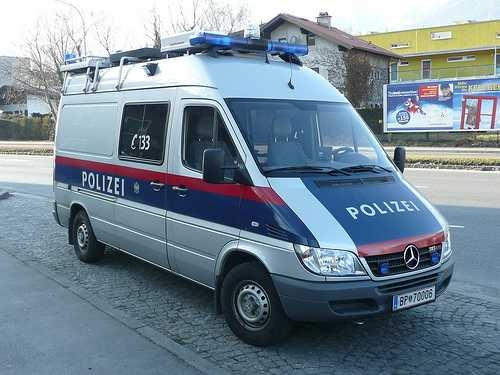Police Van: (43, 30, 459, 351)
